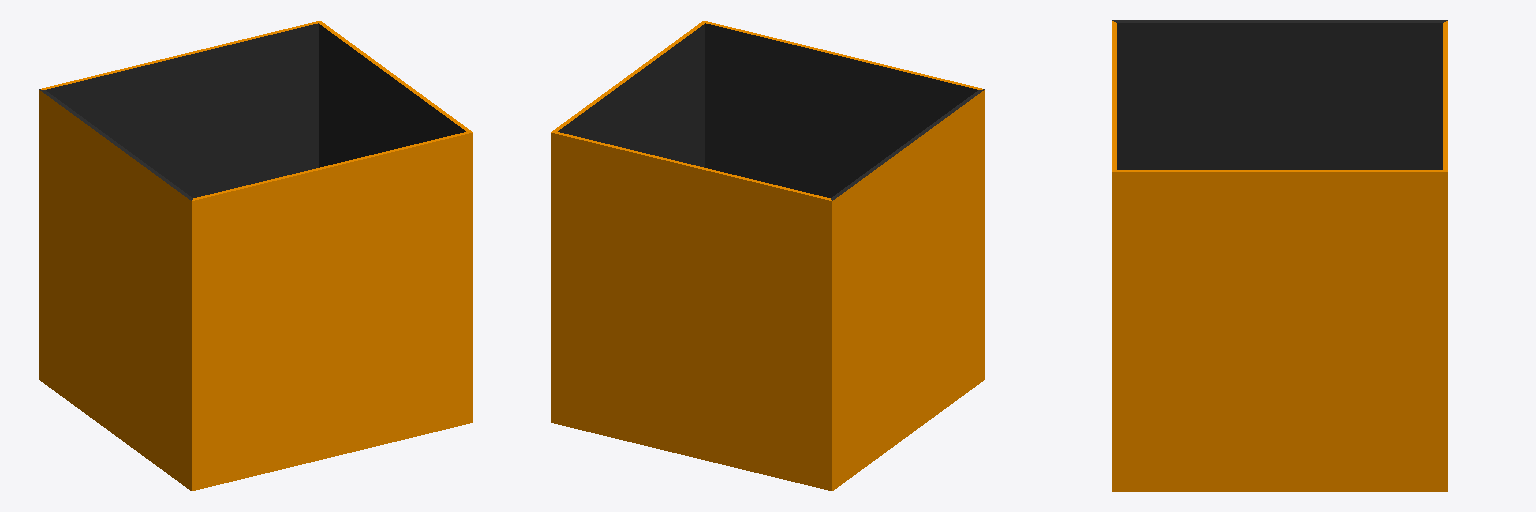
The robot description file, URDF, robot "box":
<?xml version="1.0" ?>
<robot name="box">
    <mujoco>
        <compiler meshdir="[local-path]/Workspace/mujoco_ws/src/mujoco_world/mujoco_world/model/box/box/box/stl" strippath="false" balanceinertia="true" discardvisual="true"/>
    </mujoco>
    <link name="box_body">
        <visual>
            <origin xyz="0 0 0" rpy="0 0 0"/>
            <geometry>
                <mesh filename="package://mujoco_world/model/box/urdf/meshes/BoxBottom.dae"/>
            </geometry>
        </visual>
        <visual>
            <origin xyz="0 0 0" rpy="0 0 0"/>
            <geometry>
                <mesh filename="package://mujoco_world/model/box/urdf/meshes/BoxWall1.dae"/>
            </geometry>
        </visual>
        <visual>
            <origin xyz="0 0 0" rpy="0 0 0"/>
            <geometry>
                <mesh filename="package://mujoco_world/model/box/urdf/meshes/BoxWall2.dae"/>
            </geometry>
        </visual>
        <visual>
            <origin xyz="0 0 0" rpy="0 0 0"/>
            <geometry>
                <mesh filename="package://mujoco_world/model/box/urdf/meshes/BoxWall3.dae"/>
            </geometry>
        </visual>
        <visual>
            <origin xyz="0 0 0" rpy="0 0 0"/>
            <geometry>
                <mesh filename="package://mujoco_world/model/box/urdf/meshes/BoxWall4.dae"/>
            </geometry>
        </visual>
        <collision>
            <origin xyz="0 0 -0.1675" rpy="0 0 0"/>
            <geometry>
                <box size="0.34 0.32 0.005"/>
            </geometry>
        </collision>
        <collision>
            <origin xyz="0.167578  0 -0.0025" rpy="0 0 0"/>
            <geometry>
                <box size="0.005156 0.32 0.335"/>
            </geometry>
        </collision>
        <collision>
            <origin xyz="-0.167578  0 -0.0025" rpy="0 0 0"/>
            <geometry>
                <box size="0.005156 0.32 0.335"/>
            </geometry>
        </collision>
        <collision>
            <origin xyz="0 0.1575 -0.0025" rpy="0 0 0"/>
            <geometry>
                <box size="0.340312 0.005 0.335"/>
            </geometry>
        </collision>
        <collision>
            <origin xyz="0 -0.1575 -0.0025" rpy="0 0 0"/>
            <geometry>
                <box size="0.340312 0.005 0.335"/>
            </geometry>
        </collision>
    </link>
    <joint name="box_flap_side_1_joint" type="continuous">
        <origin xyz="0.17 0 0.166" rpy="0 0 0"/>
        <parent link="box_body"/>
        <child link="box_flap_side_1"/>
        <axis xyz="0 1 0"/>
    </joint>
    <link name="box_flap_side_1">
        <visual>
            <geometry>
                <mesh filename="package://mujoco_world/model/box/urdf/meshes/BoxFlapSide1.dae"/>
            </geometry>
        </visual>
        <collision>
            <geometry>
                <mesh filename="BoxFlapSide1.stl"/>
            </geometry>
        </collision>
    </link>
    <joint name="box_flap_side_2_joint" type="continuous">
        <origin xyz="-0.17 0 0.168" rpy="0 0 0"/>
        <parent link="box_body"/>
        <child link="box_flap_side_2"/>
        <axis xyz="0 -1 0"/>
    </joint>
    <link name="box_flap_side_2">
        <visual>
            <geometry>
                <mesh filename="package://mujoco_world/model/box/urdf/meshes/BoxFlapSide2.dae"/>
            </geometry>
        </visual>
        <collision>
            <geometry>
                <mesh filename="BoxFlapSide2.stl"/>
            </geometry>
        </collision>
    </link>
</robot>

--- What the picture shows (computed from the rendered views, not written in the file) ---
Views: 3 orthographic renders of the robot side by side, from view 1: azimuth 30°, elevation 25°; view 2: azimuth 150°, elevation 25°; view 3: azimuth 270°, elevation 25°.
Model box with 3 links and 2 joints (2 continuous), rooted at box_body, posed all joints at 0.
Links seen in each view (by area): view 1: box_body; view 2: box_body; view 3: box_body.
Link boxes in pixels (box(x1,y1,x2,y2)): box_body: box(39, 21, 472, 490); box_body: box(551, 21, 984, 490); box_body: box(1112, 20, 1447, 491).
Bounding box of the posed robot: 0.3403 × 0.32 × 0.335 m (x, y, z).
5 mesh visuals loaded from 7 distinct referenced files (5 Collada DAE); not drawn: 2 (reference not matched to a file when rendering).